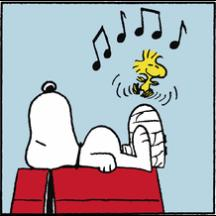snoopy: (24, 79, 168, 215)
